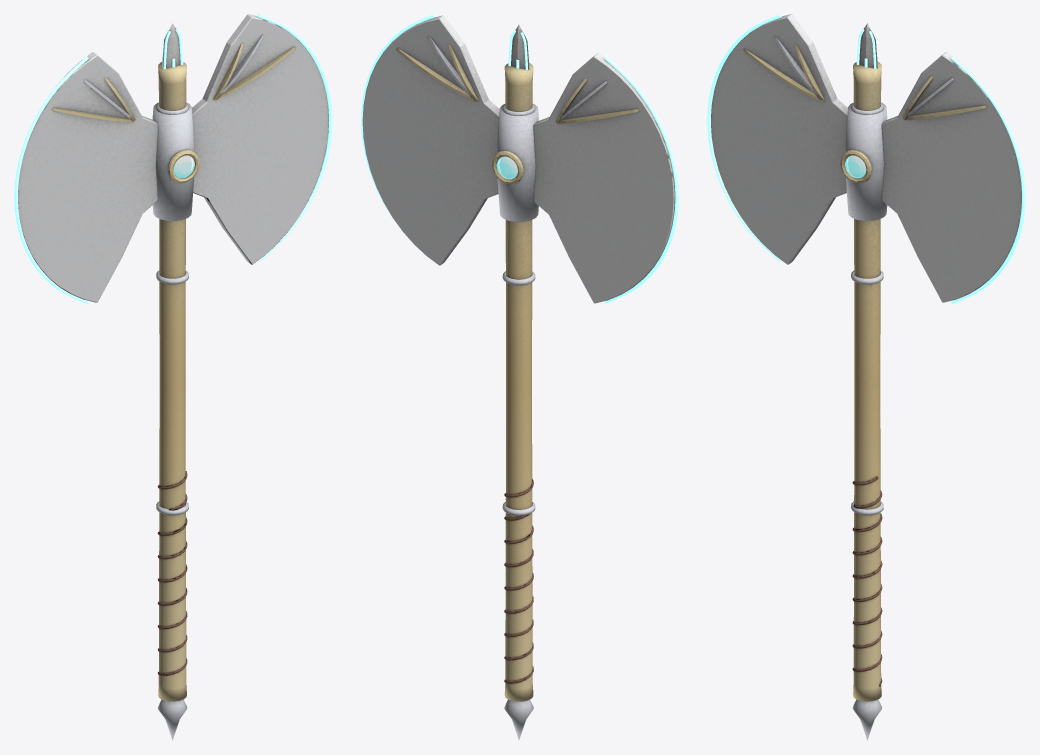
File: arma_lend_machado_gigante_sagrado.glb
3 renders of one model, left to right at view 1: azimuth 30°, elevation 25°; view 2: azimuth 150°, elevation 25°; view 3: azimuth 330°, elevation 25°, orthographic.
Visible parts, largest first — view 1: arma_lend_machado_gigante_sagrado, gume-1, gume1; view 2: arma_lend_machado_gigante_sagrado, gume-1, gume1; view 3: arma_lend_machado_gigante_sagrado, gume1, gume-1.
Part boxes in pixels (x1,y1,x2,y2): arma_lend_machado_gigante_sagrado: (18,14,328,740); gume-1: (14,56,88,303); gume1: (258,14,332,261); arma_lend_machado_gigante_sagrado: (362,15,675,740); gume-1: (604,56,678,303); gume1: (361,14,435,226); arma_lend_machado_gigante_sagrado: (711,14,1021,740); gume1: (951,56,1025,303); gume-1: (707,14,781,261).
Size of the model in its own units: 0.7923 by 1.71 by 0.1142.
Materials: 11 (1 with a texture image).
